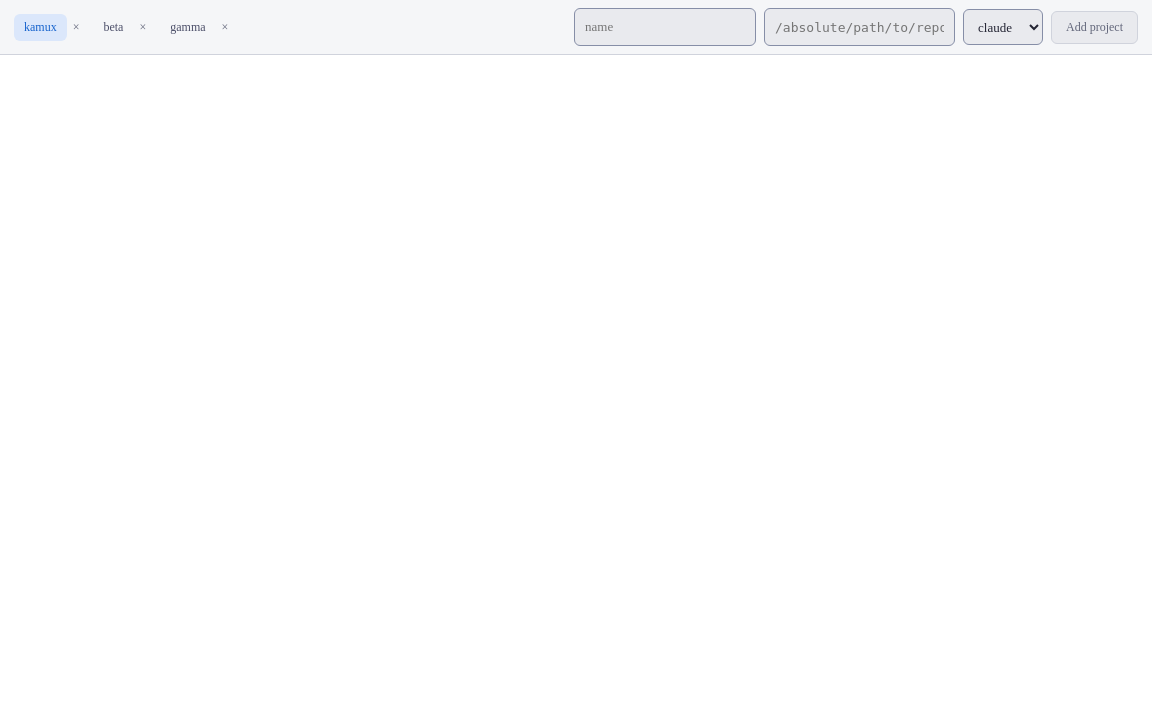
ProjectBar の削除導線 › 削除ボタンを押しても消さない —— 確認ダイアログが開くだけ（契約 §7.1）
Click the 1st button "×": (76, 27) [67,15,86,39]
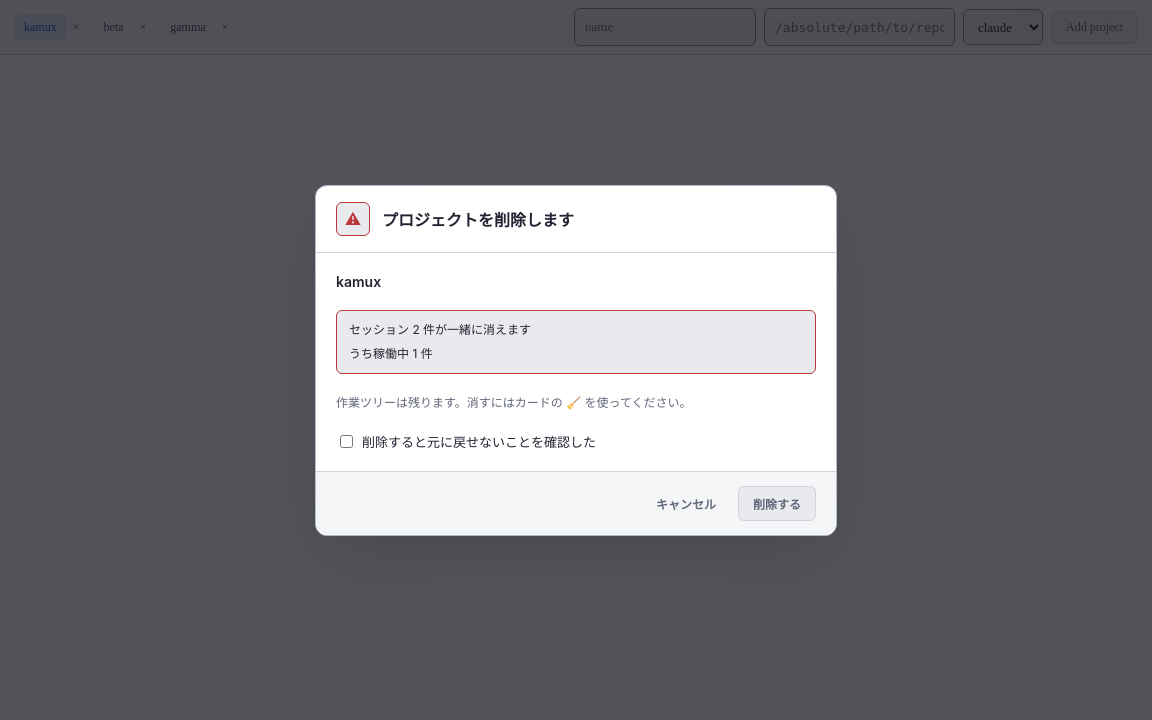
Now the text "セッション 2 件が一緒に消えます" is shown, box [349,322,531,336]
Now the dialog "プロジェクトを削除" is shown, box [315,184,837,536]
